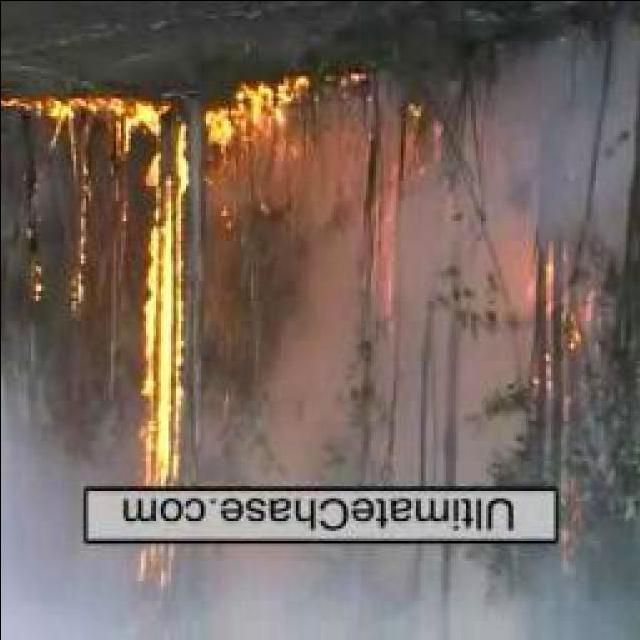Fire: (126, 81, 172, 577), (9, 89, 82, 299), (210, 70, 302, 150), (527, 248, 587, 364)
